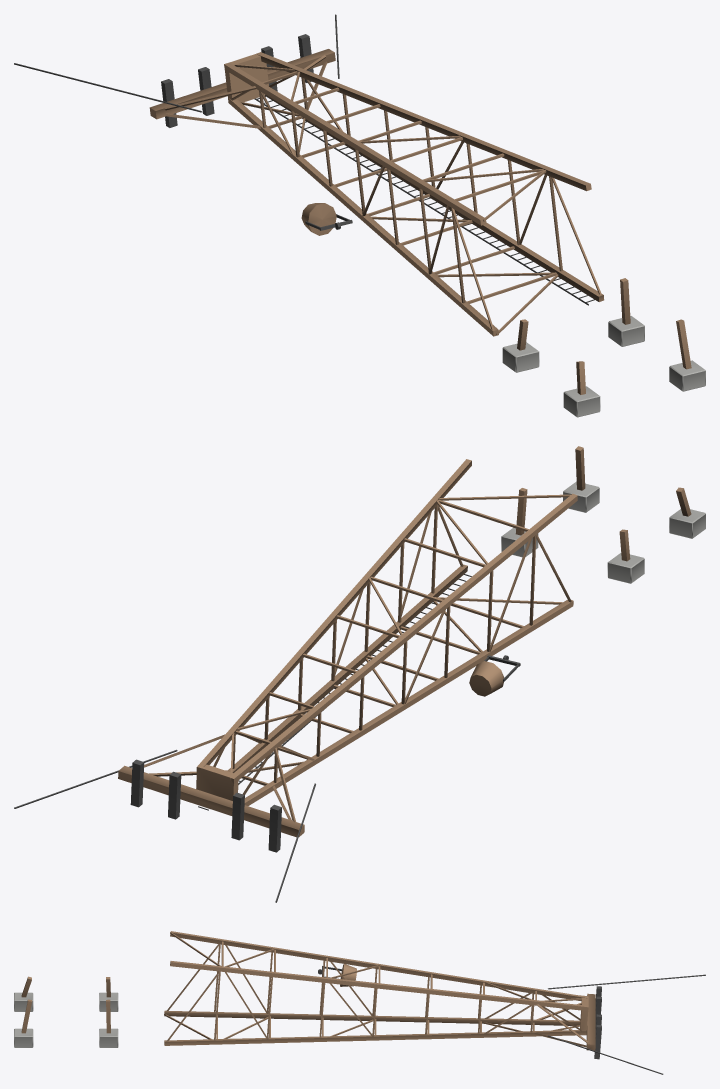
The model's file is ropeway_pylon_down.glb.
3 renders of one model, top to bottom at view 1: azimuth 30°, elevation 25°; view 2: azimuth 150°, elevation 25°; view 3: azimuth 270°, elevation 25°, orthographic. The views are drawn at different scales.
Visible parts, largest first — view 1: static; view 2: static; view 3: static.
Part boxes in pixels (bbox=[...]): static: bbox=[14, 14, 705, 417]; static: bbox=[14, 446, 705, 902]; static: bbox=[14, 931, 705, 1074].
Size of the model in its own units: 11.05 by 4.99 by 32.46.
